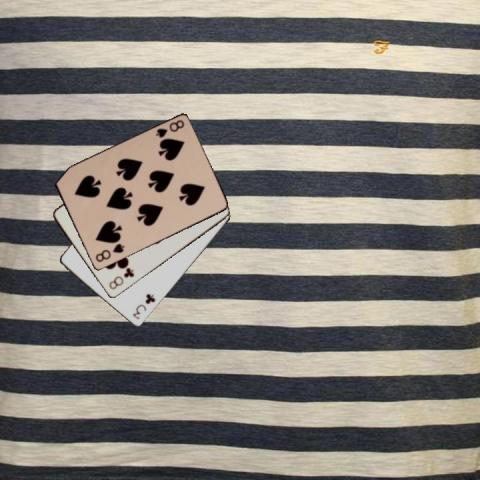3c: (130, 290, 157, 320)
8c: (106, 266, 135, 292)
8s: (93, 241, 125, 264), (153, 118, 185, 139)
